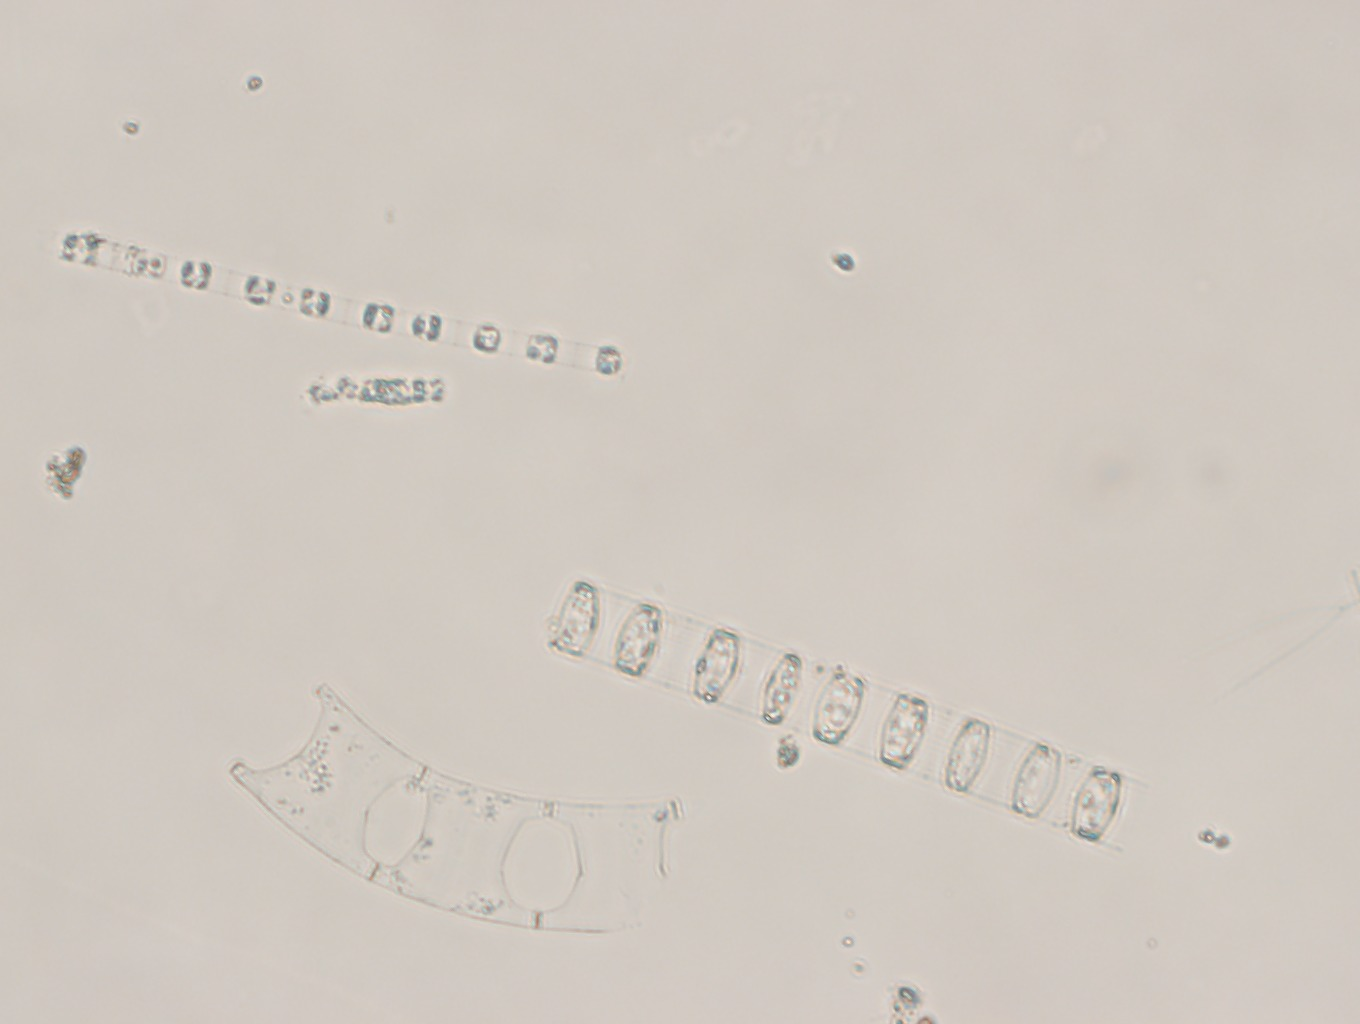eucampia: (215, 656, 689, 949)
skeletonema: (532, 561, 1153, 864), (52, 218, 633, 382)
